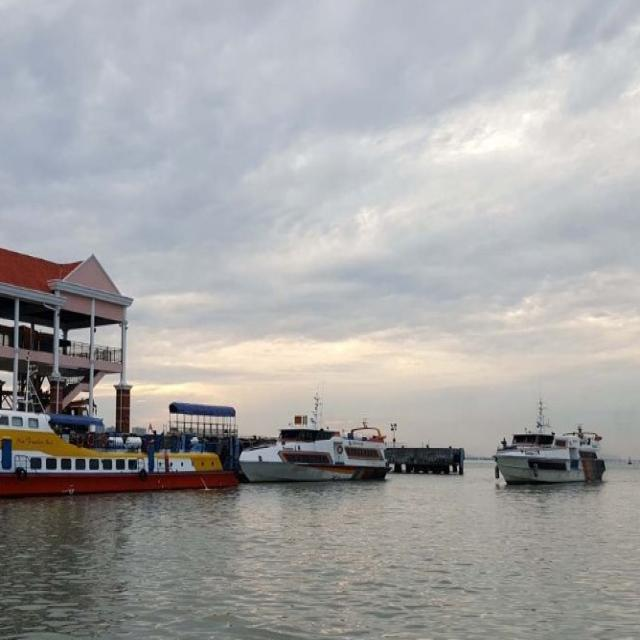houseboat: (247, 402, 388, 484), (499, 397, 596, 486)
